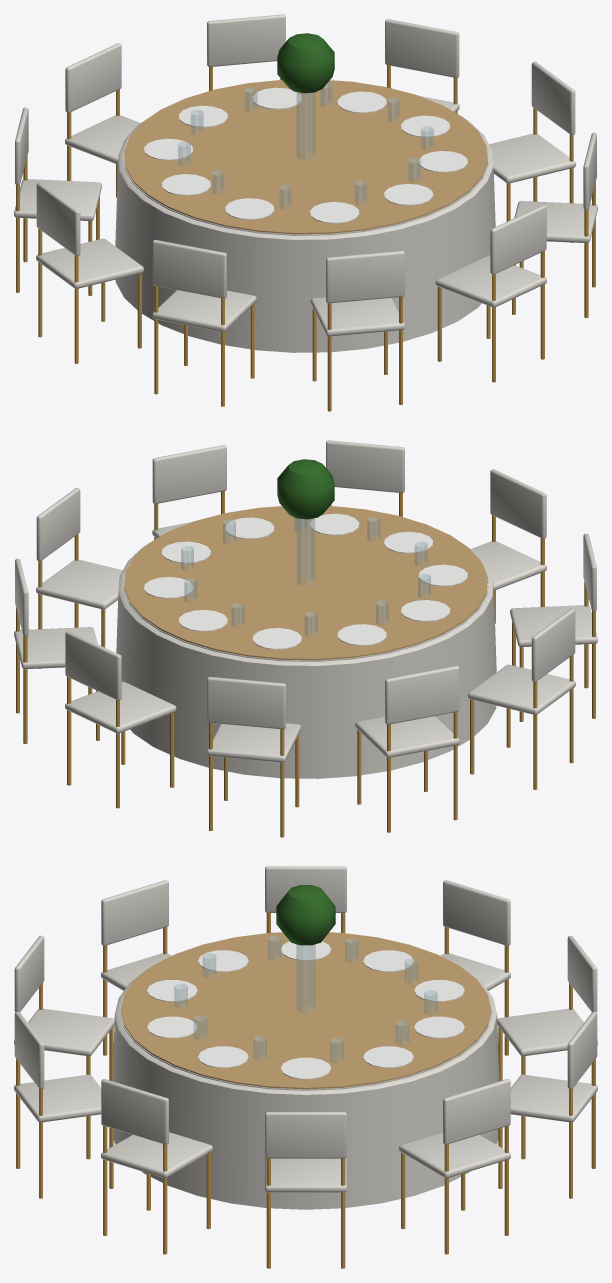
Rendered from hospitality.function.banquet_round.glb.
3 views of the same model, one above another, from view 1: azimuth 30°, elevation 25°; view 2: azimuth 150°, elevation 25°; view 3: azimuth 270°, elevation 25° (orthographic).
Parts seen in each view (by area): view 1: chairs__fabric_white, table__plywood, table__fabric_white, chairs__brass, setting__ceramic, setting__glass, setting__foliage; view 2: chairs__fabric_white, table__plywood, table__fabric_white, chairs__brass, setting__ceramic, setting__glass, setting__foliage; view 3: chairs__fabric_white, table__plywood, table__fabric_white, chairs__brass, setting__ceramic, setting__glass, setting__foliage.
Part boxes in pixels (<box>): chairs__fabric_white: <box>14,14,597,336</box>; table__plywood: <box>124,80,487,234</box>; table__fabric_white: <box>115,119,495,352</box>; chairs__brass: <box>16,65,595,411</box>; setting__ceramic: <box>144,87,467,223</box>; setting__glass: <box>178,83,433,209</box>; setting__foliage: <box>277,33,334,93</box>; chairs__fabric_white: <box>14,440,597,762</box>; table__plywood: <box>124,506,487,660</box>; table__fabric_white: <box>116,545,496,778</box>; chairs__brass: <box>16,491,595,837</box>; setting__ceramic: <box>144,513,467,649</box>; setting__glass: <box>181,517,430,636</box>; setting__foliage: <box>277,459,334,519</box>; chairs__fabric_white: <box>14,866,597,1192</box>; table__plywood: <box>120,932,491,1089</box>; table__fabric_white: <box>112,968,499,1209</box>; chairs__brass: <box>16,913,595,1268</box>; setting__ceramic: <box>147,941,464,1079</box>; setting__glass: <box>174,936,437,1063</box>; setting__foliage: <box>276,885,335,945</box>.
Size of the model in its own units: 3.02 by 1.46 by 2.99.
